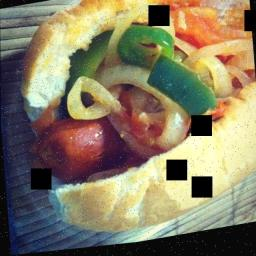hotdog: (26, 101, 131, 189)
